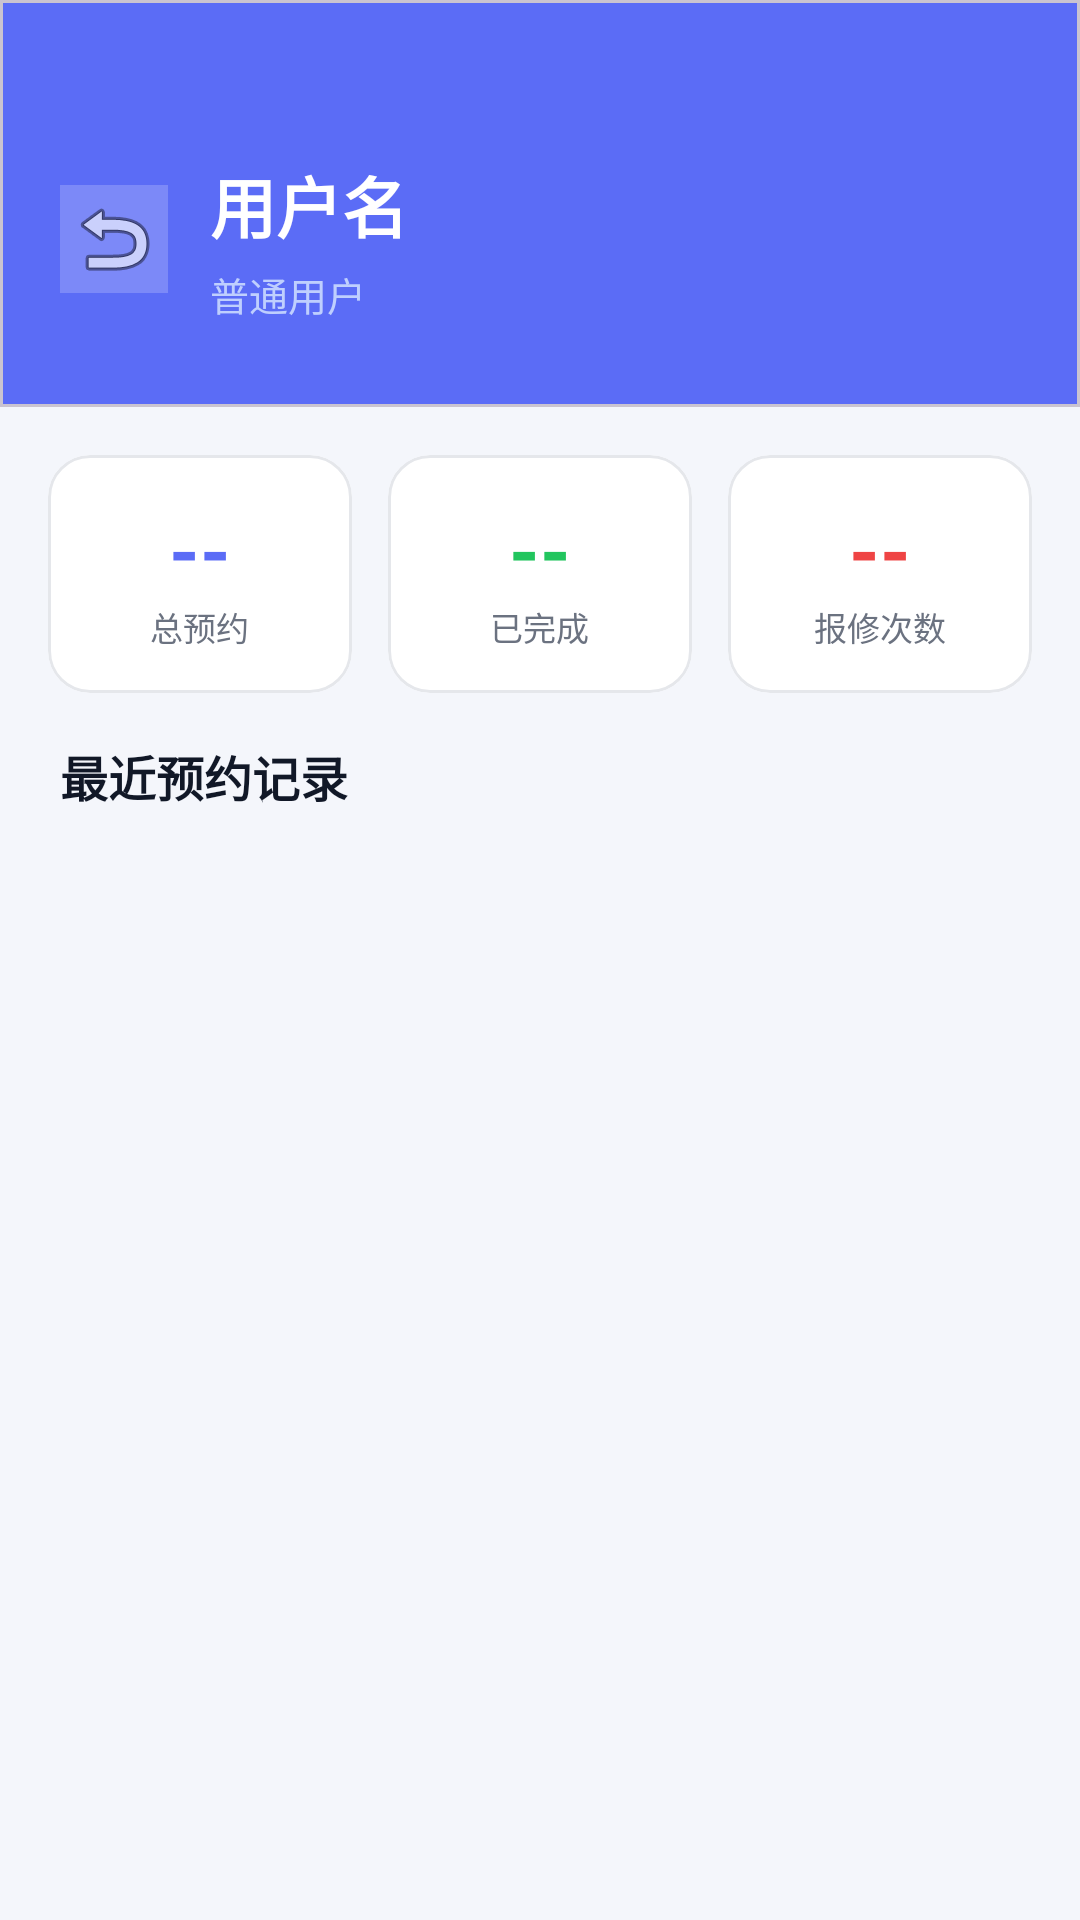

Icon bounding boxes for this 1080px×1920px phone screenshot, format {"x1": x1, "y1": y1, "x2": x2, "y2": y2}:
返回: {"x1": 60, "y1": 185, "x2": 168, "y2": 293}
